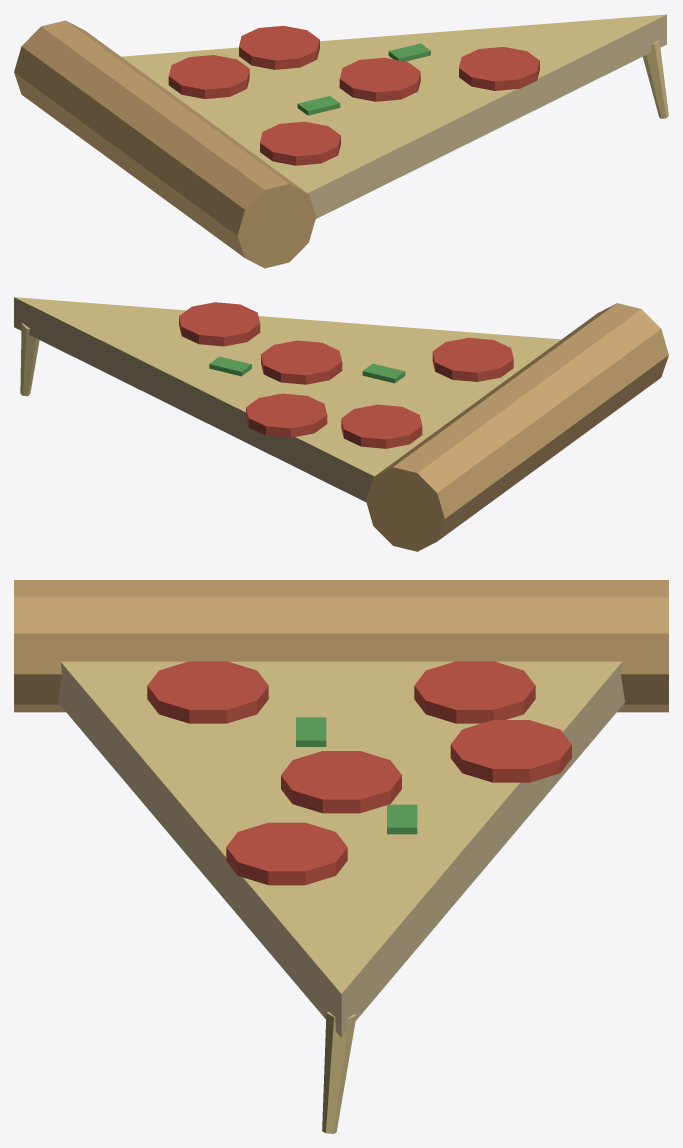
The model's file is pizza-slice.glb.
The picture shows the model from 3 angles, top to bottom: view 1: azimuth 30°, elevation 25°; view 2: azimuth 150°, elevation 25°; view 3: azimuth 270°, elevation 25°; orthographic projection. The views are drawn at different scales.
Parts seen in each view (by area): view 1: pizza-slice; view 2: pizza-slice; view 3: pizza-slice.
Part boxes in pixels (<box>): pizza-slice: <box>14,14,668,268</box>; pizza-slice: <box>14,297,668,551</box>; pizza-slice: <box>14,580,668,1133</box>.
Size of the model in its own units: 15 by 3.44 by 10.73.
